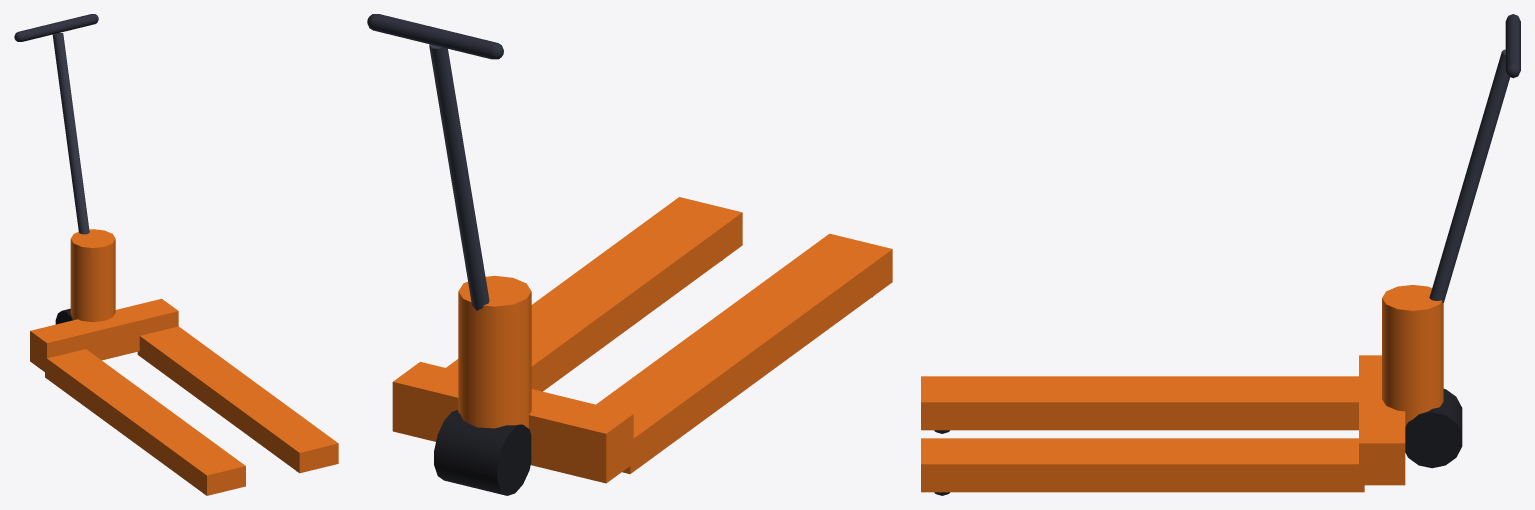
File: trk-011.glb
3 renders of one model, left to right at view 1: azimuth 30°, elevation 25°; view 2: azimuth 150°, elevation 25°; view 3: azimuth 270°, elevation 25°, orthographic. The views are drawn at different scales.
Visible parts, largest first — view 1: hi_vis_orange, dark_steel, plastic_dark; view 2: hi_vis_orange, rubber, dark_steel, plastic_dark; view 3: hi_vis_orange, dark_steel, rubber, plastic_dark.
Boxes of the visible parts, bbox=[...] form: hi_vis_orange: bbox=[30, 229, 338, 495]; dark_steel: bbox=[52, 33, 89, 234]; plastic_dark: bbox=[14, 14, 98, 41]; hi_vis_orange: bbox=[392, 197, 892, 483]; rubber: bbox=[434, 260, 872, 495]; dark_steel: bbox=[429, 44, 489, 310]; plastic_dark: bbox=[367, 14, 503, 59]; hi_vis_orange: bbox=[921, 285, 1443, 492]; dark_steel: bbox=[1429, 49, 1510, 302]; rubber: bbox=[934, 388, 1462, 495]; plastic_dark: bbox=[1505, 14, 1520, 78].
Bounding box in the file's own units: 0.54 × 1.19 × 1.55.
